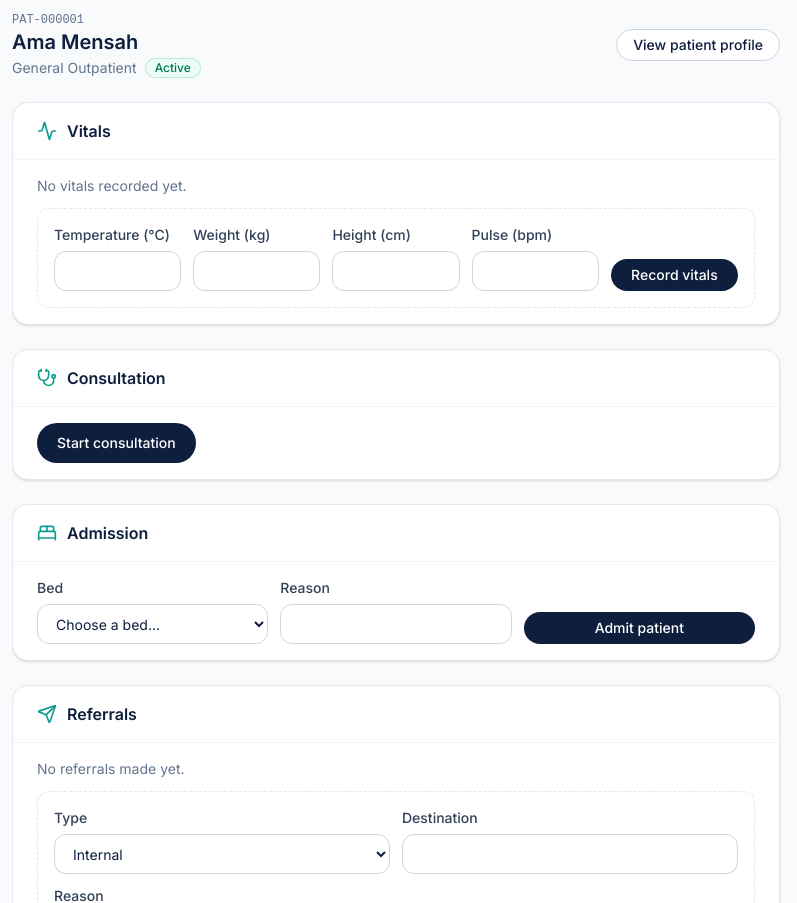
VisitWorkspace › explains a 403 when the signed-in role cannot record vitals
Step 1. Type "37.0" into the field labelled "Temperature (°C)" → x=118, y=271, box [54,251,181,291]
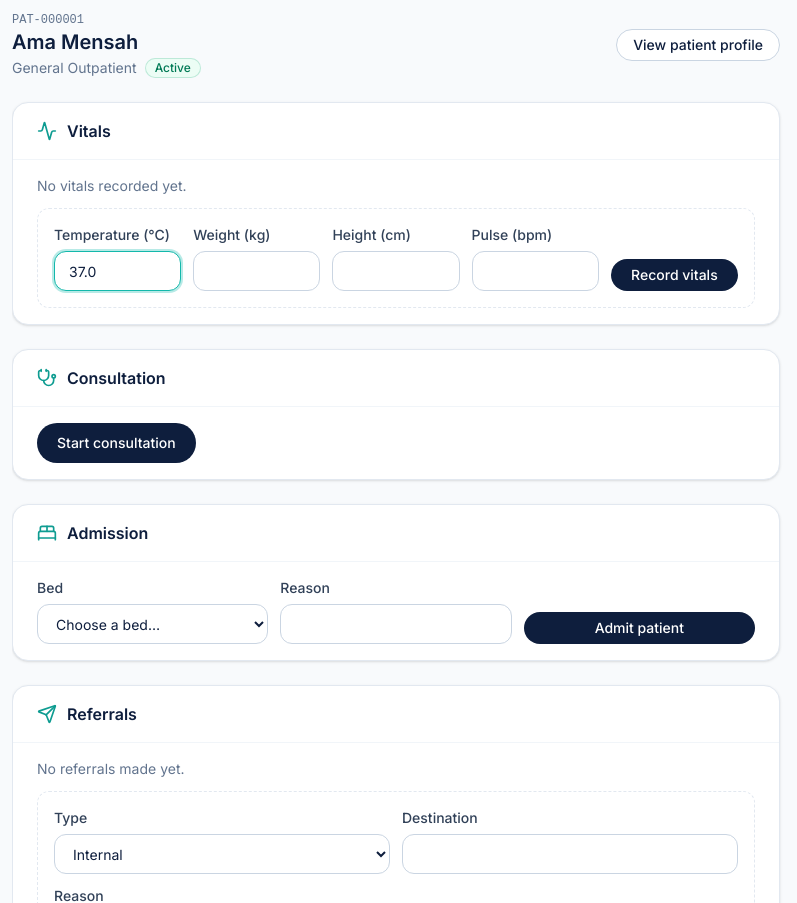
Step 2. Click the button "Record vitals" → x=674, y=275, box [611,259,738,291]
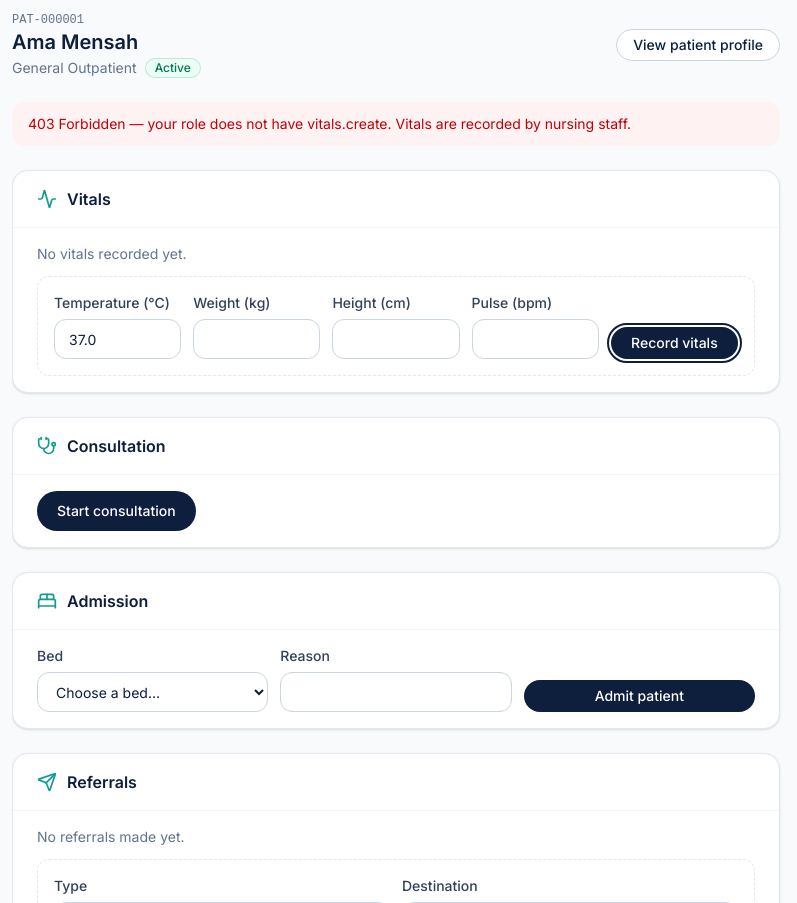
expect the text "does not have vitals.create" is shown: met, box [28,115,631,132]
